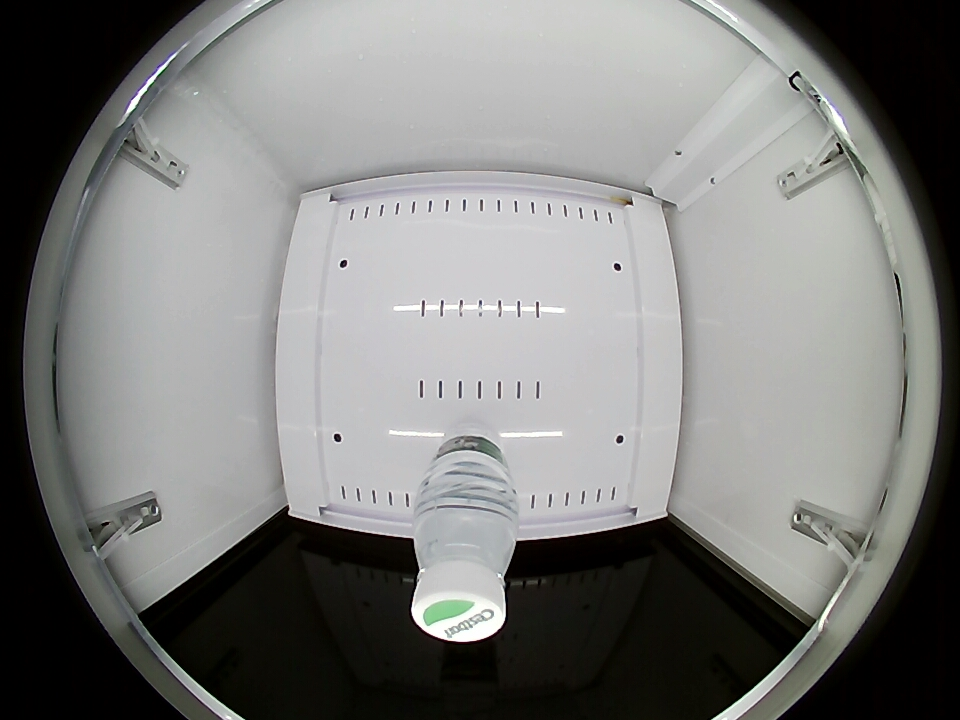yibao: (409, 494, 520, 642)
